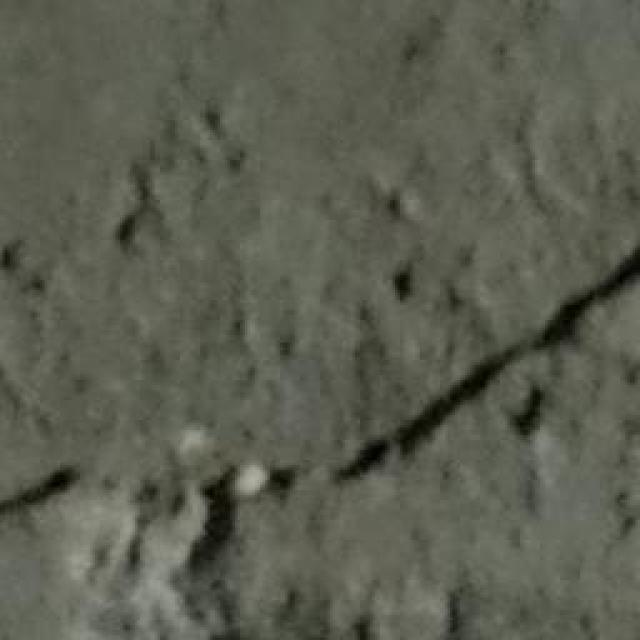Diagonal: (0, 245, 640, 518)
